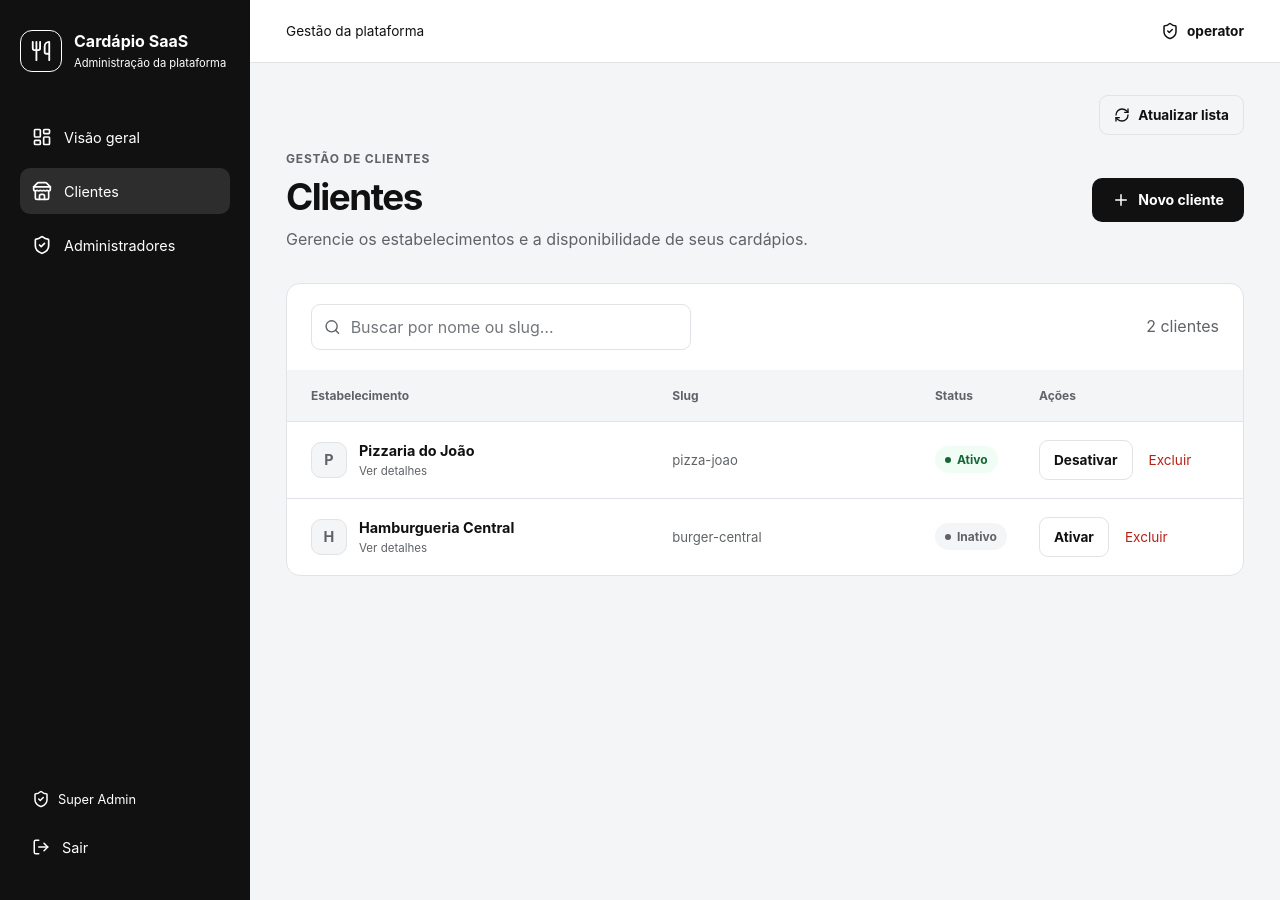
Test: platform management › requires confirmation before deactivation and updates the list
The width and height of the screenshot is (1280, 900).
Check: the text "Pizzaria do João" is shown, box [359,442,474,459]
Step 1. Click the button with aria-label "Desativar Pizzaria do João" → (1086, 460), box [1039,440,1132,480]
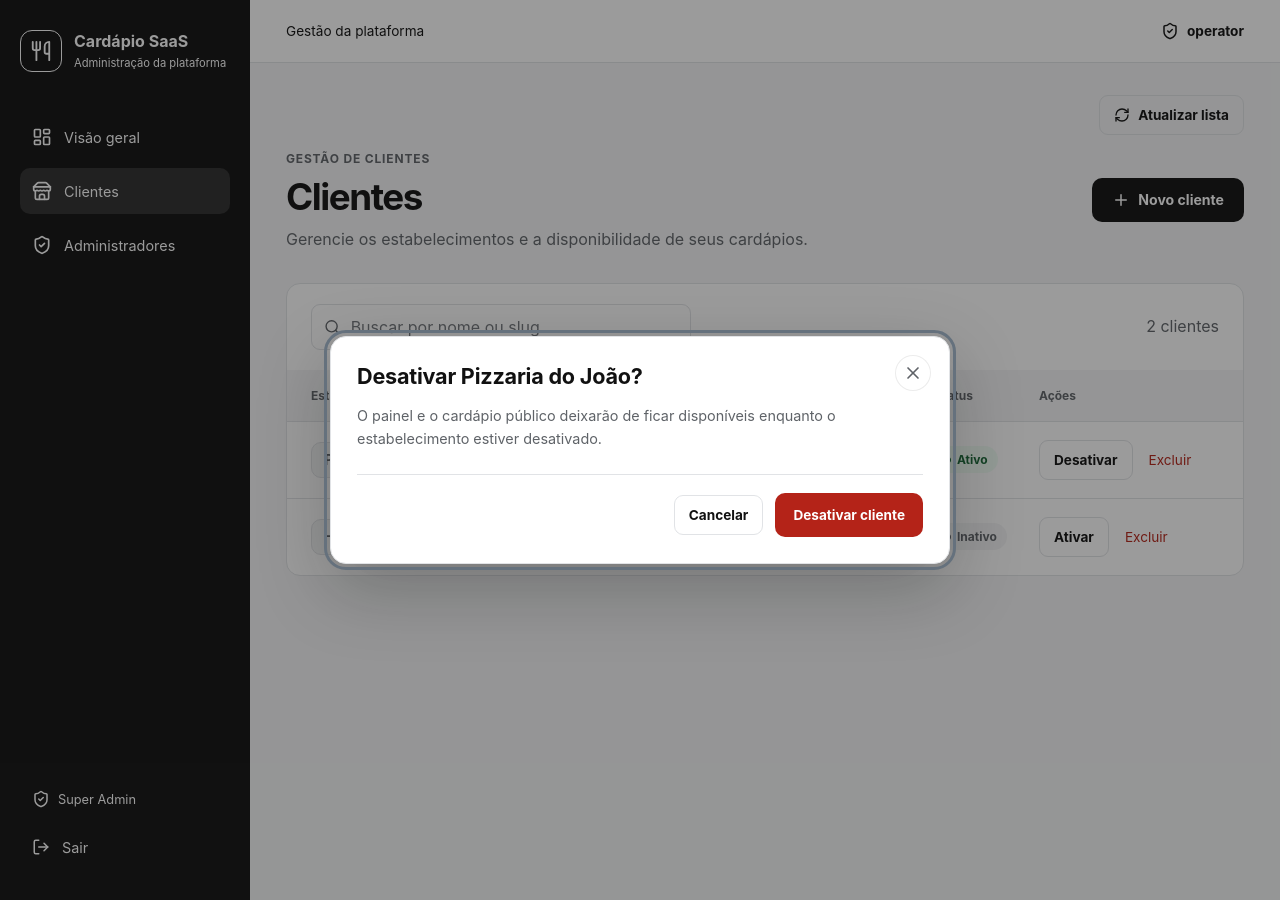
Check: the dialog "Desativar Pizzaria do João?" shows "painel e o cardápio público", box [357,407,836,447]
Step 2. Click the button "Desativar cliente" → (849, 515), box [775,493,923,537]
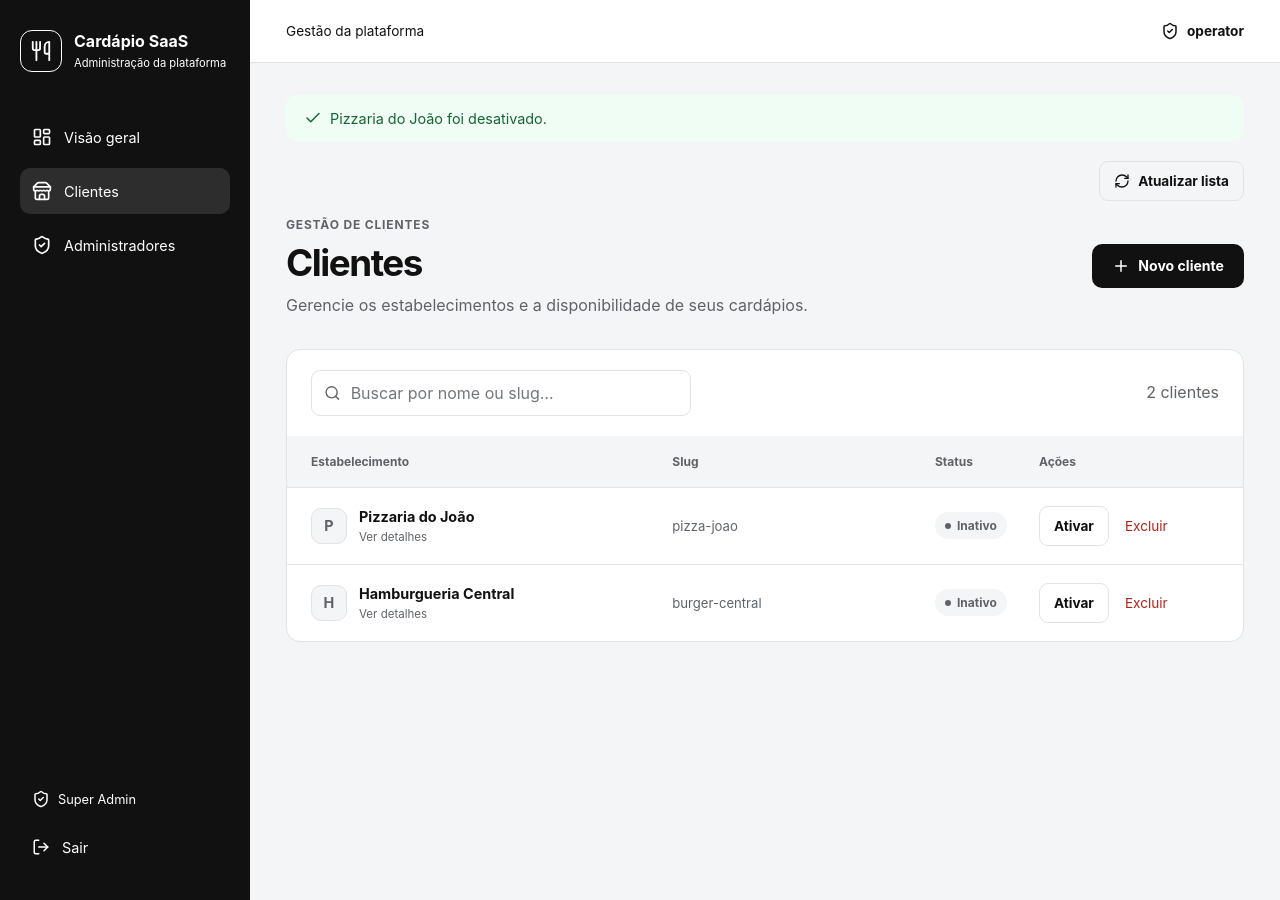
Check: the button with aria-label "Ativar Pizzaria do João" is shown, box [1039,506,1109,546]
Check: the dialog is gone
